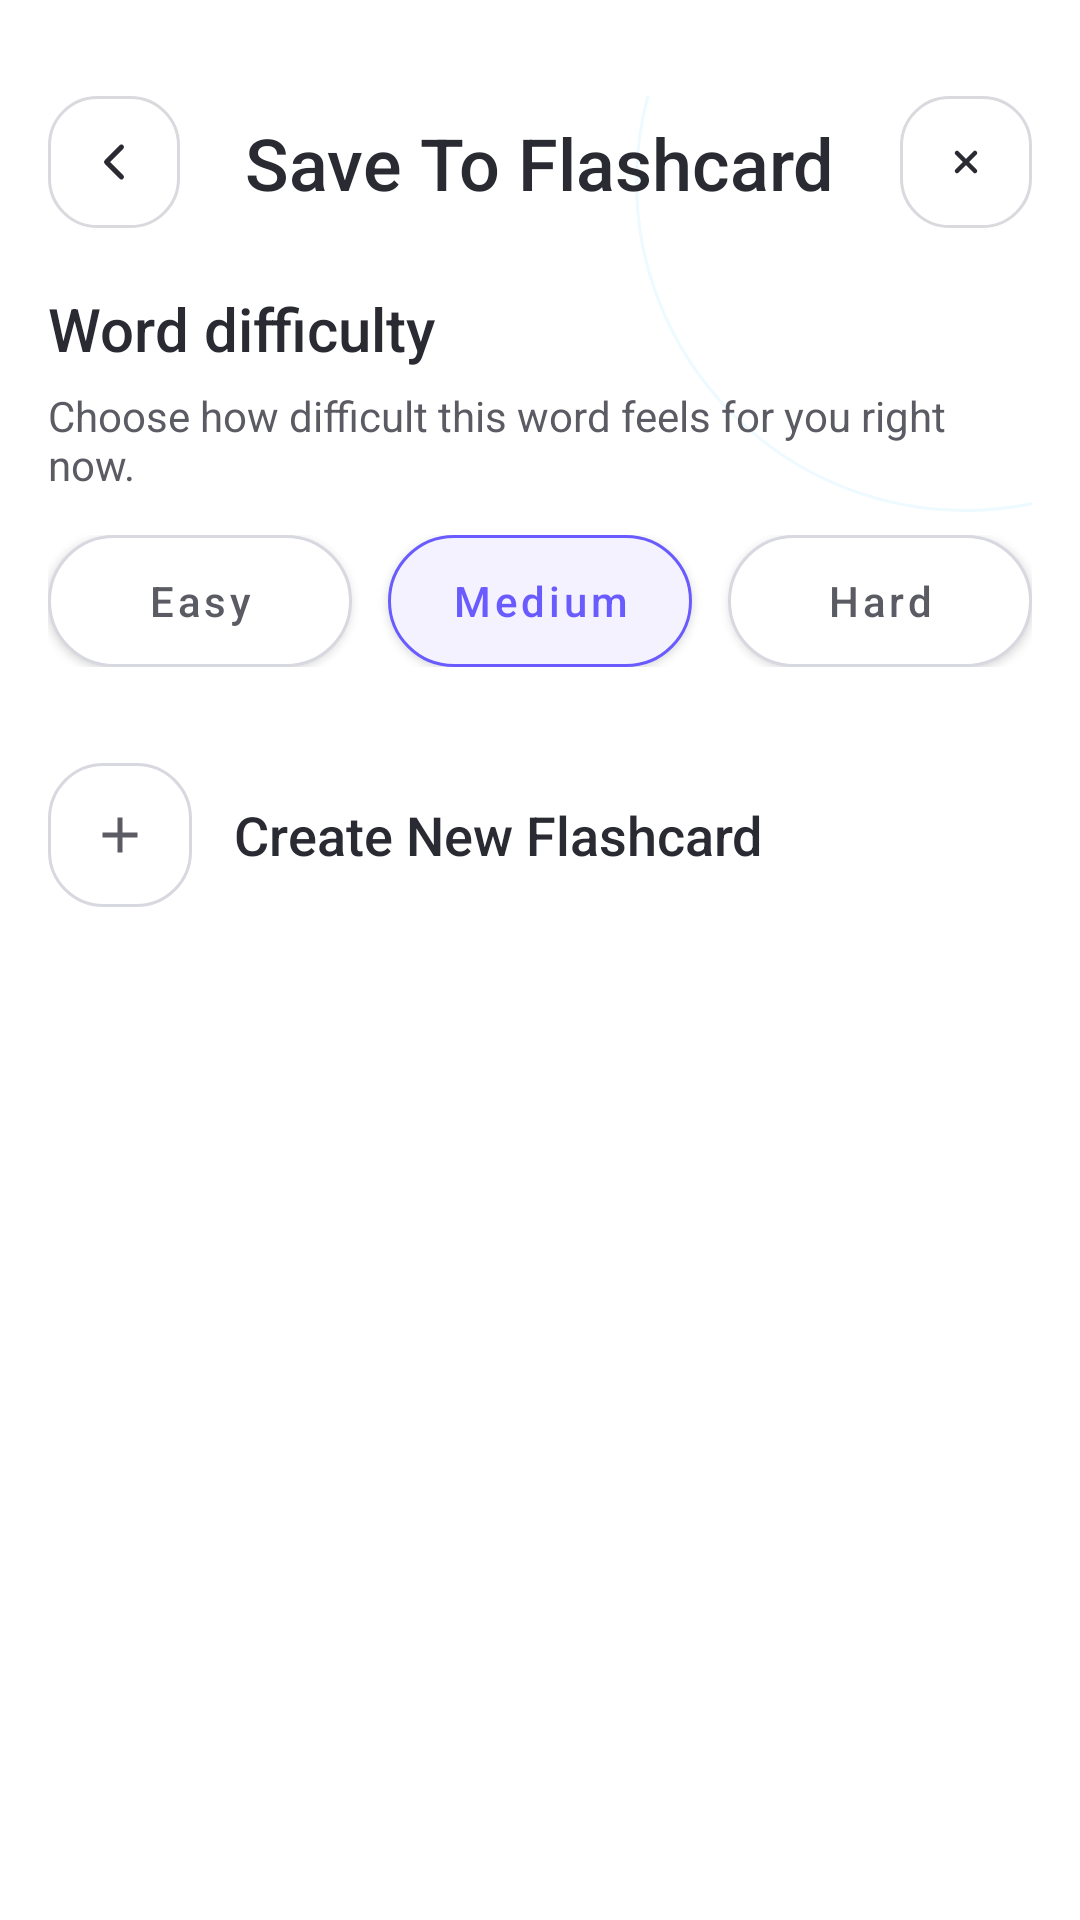

Point at icon controls on the screen. Image size 1080 × 1920, points as [x,y].
auth arrow back: [114,162]
library add: [120,835]
scan close: [966,162]
